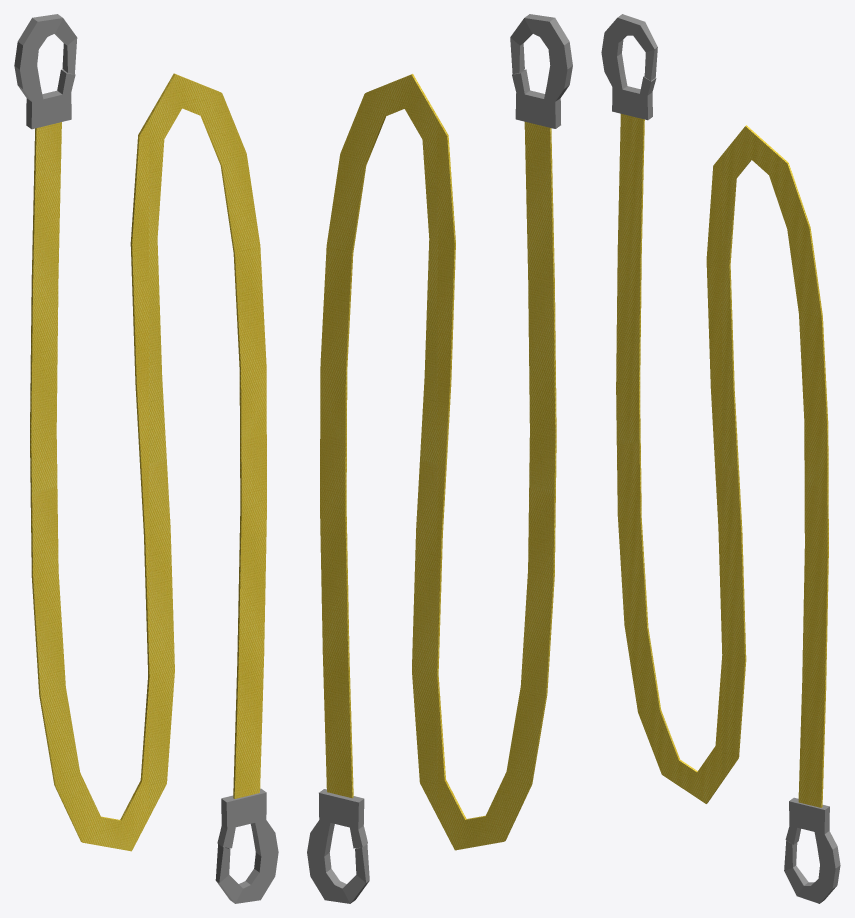
Rendered from eSLINGAe.FBX.
The picture shows the model from 3 angles, left to right: view 1: azimuth 30°, elevation 25°; view 2: azimuth 150°, elevation 25°; view 3: azimuth 330°, elevation 25°; orthographic projection. The views are drawn at different scales.
Parts seen in each view (by area): view 1: Line002, Box012, Box013; view 2: Line002, Box012, Box013; view 3: Line002, Box012, Box013.
Boxes of the visible parts, x1,y1,x2,y2 form: Line002: [30, 73, 266, 851]; Box012: [14, 14, 77, 129]; Box013: [215, 788, 278, 903]; Line002: [320, 74, 556, 850]; Box012: [510, 14, 572, 128]; Box013: [307, 789, 369, 903]; Line002: [616, 114, 828, 807]; Box012: [601, 14, 657, 120]; Box013: [784, 797, 840, 903].
Size of the model in its own units: 19.87 by 68.24 by 0.8691.
